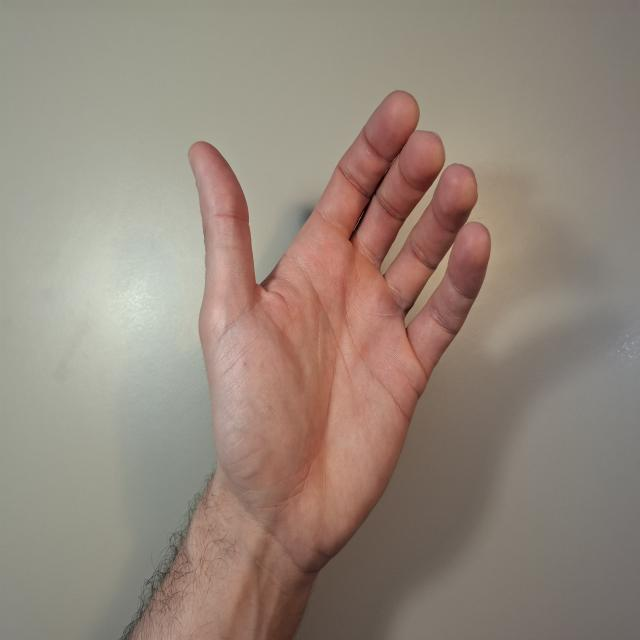glove_off: (185, 88, 492, 578)
